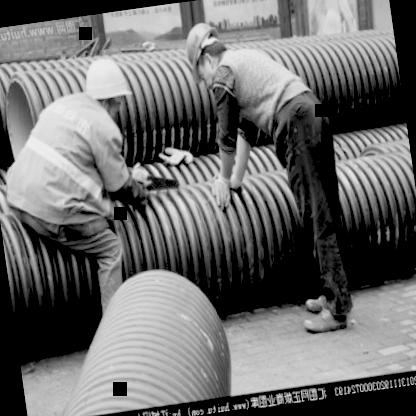helmet: (75, 50, 139, 132), (178, 16, 236, 89)
